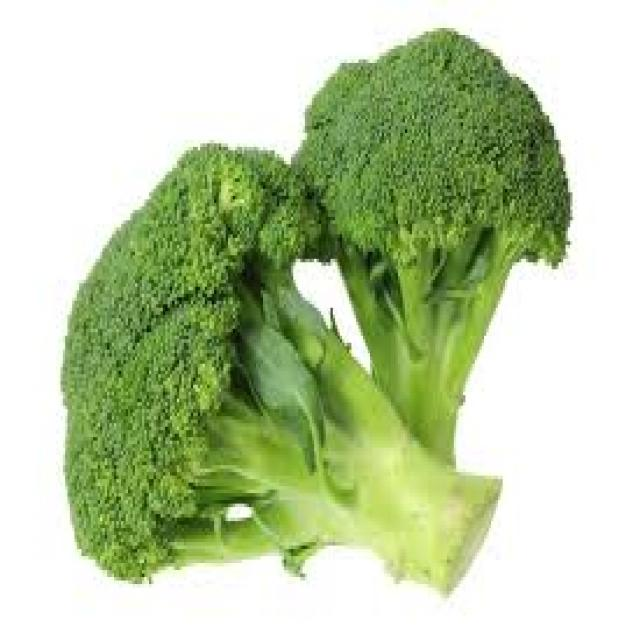organic waste: (58, 140, 498, 591), (281, 24, 568, 462)
